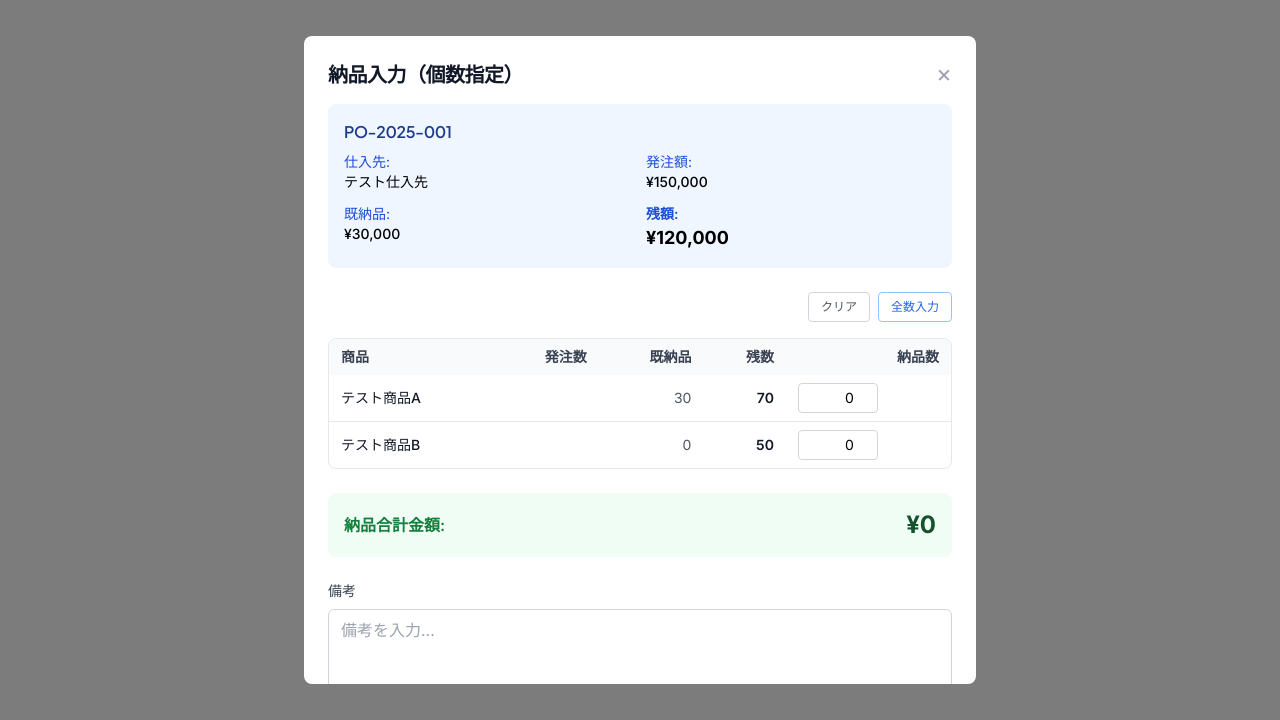
Test: DeliveryModal › バリデーション › 負の数を入力時にエラーメッセージを表示する
Clear the number field in the row of "テスト商品A". click: (838, 398)
box: [798,383,878,413]
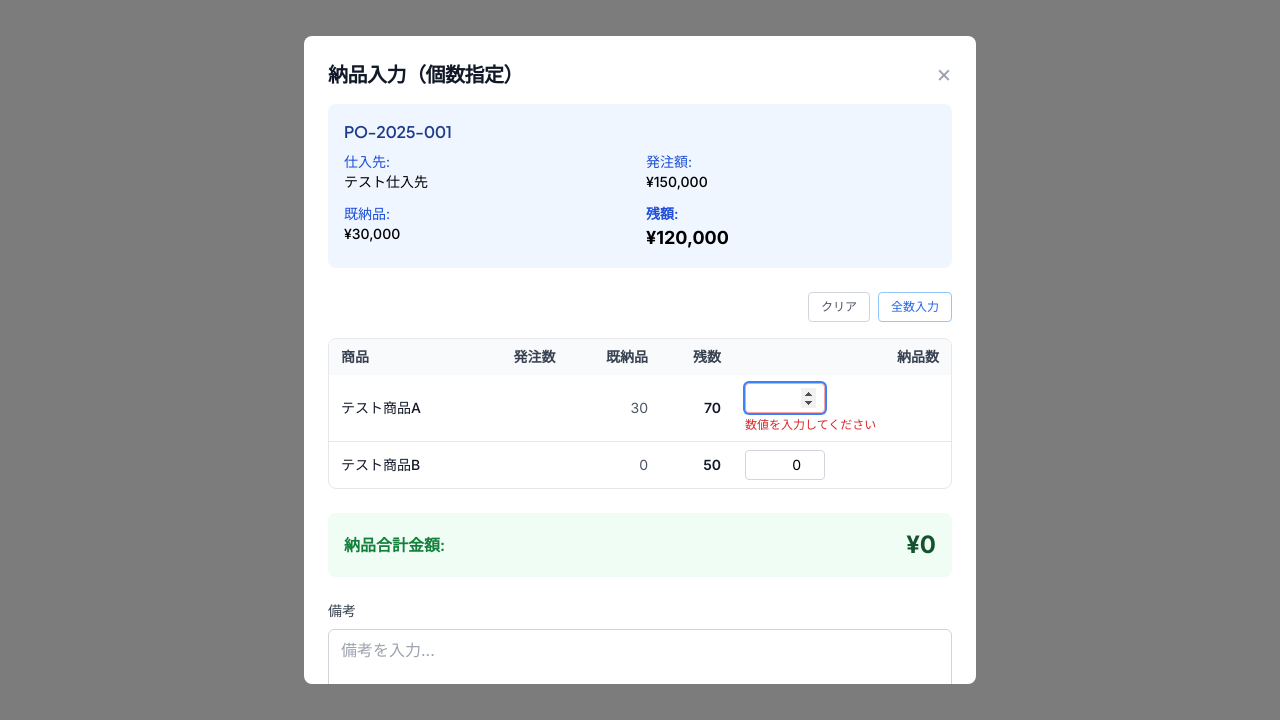
Type "-10" into the number field in the row of "テスト商品A". click: (785, 398)
box: [745,383,825,413]
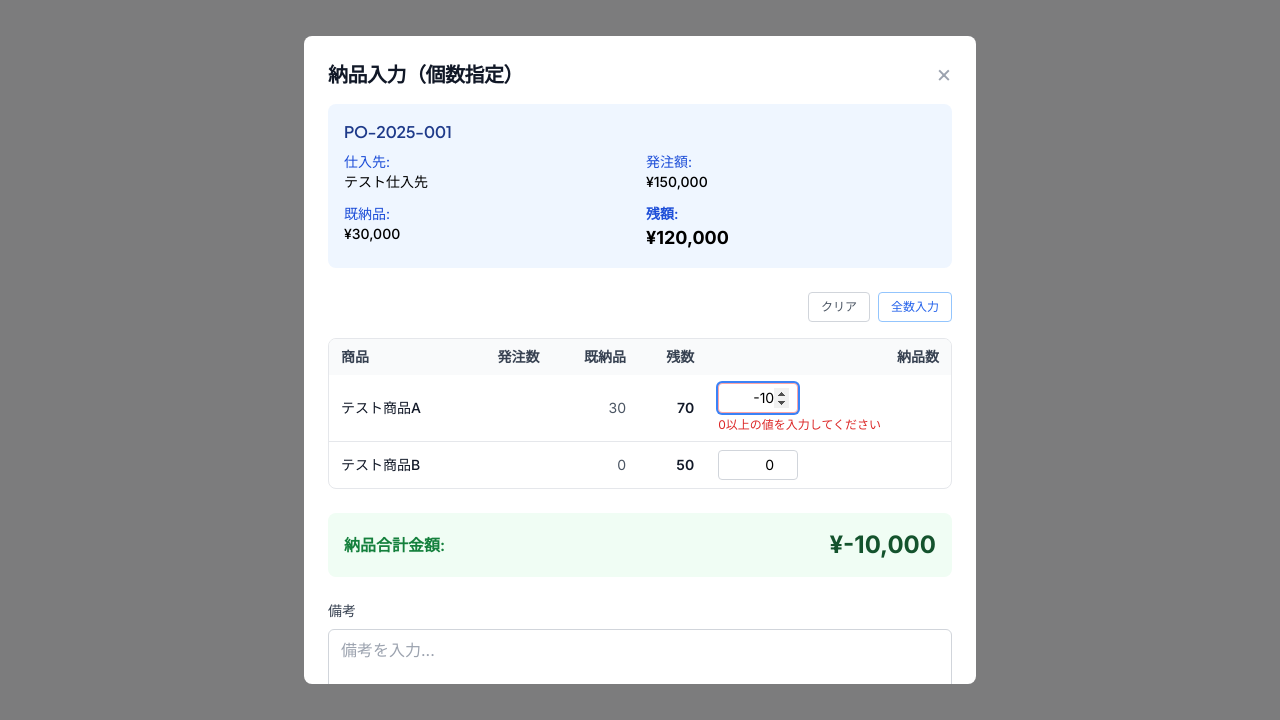
Result: the text "0以上の値を入力してください" is shown at [718,417,881,432]
